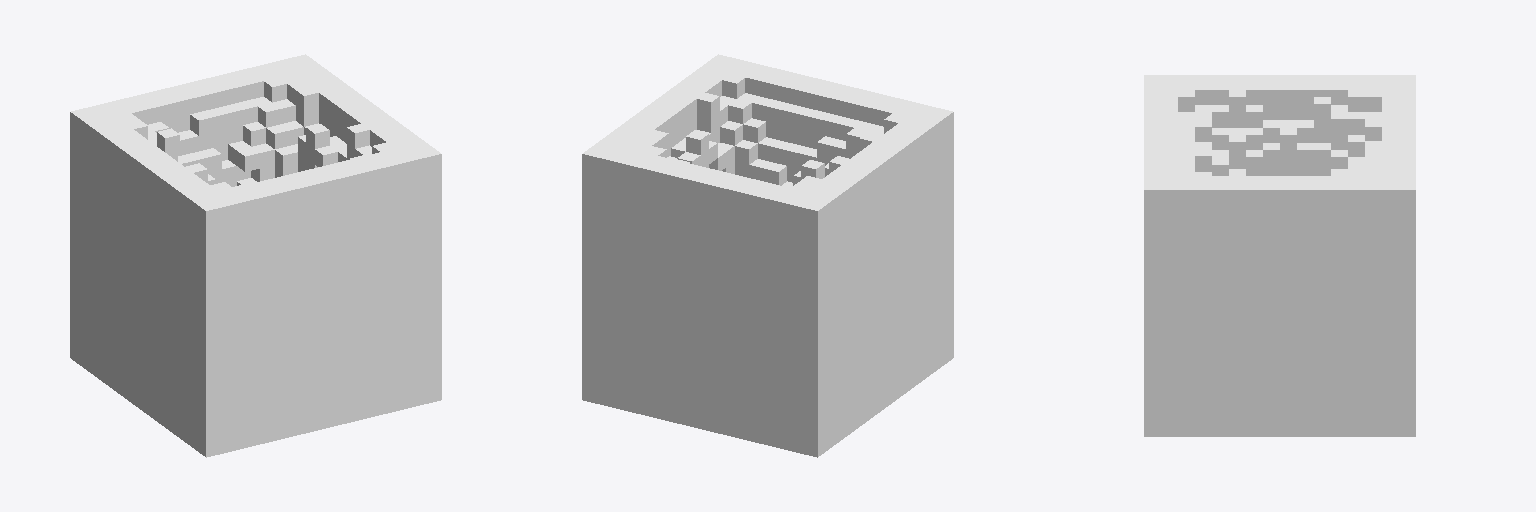
File: Mine_01.obj
3 views of the same model, side by side, from view 1: azimuth 30°, elevation 25°; view 2: azimuth 150°, elevation 25°; view 3: azimuth 270°, elevation 25° (orthographic).
Visible parts, largest first — view 1: Mine_01; view 2: Mine_01; view 3: Mine_01.
Part boxes in pixels (left/top/right/bottom): Mine_01: left=70, top=54, right=441, bottom=457; Mine_01: left=582, top=54, right=953, bottom=457; Mine_01: left=1144, top=75, right=1415, bottom=436.
Bounding box in the file's own units: 16 × 16 × 16.